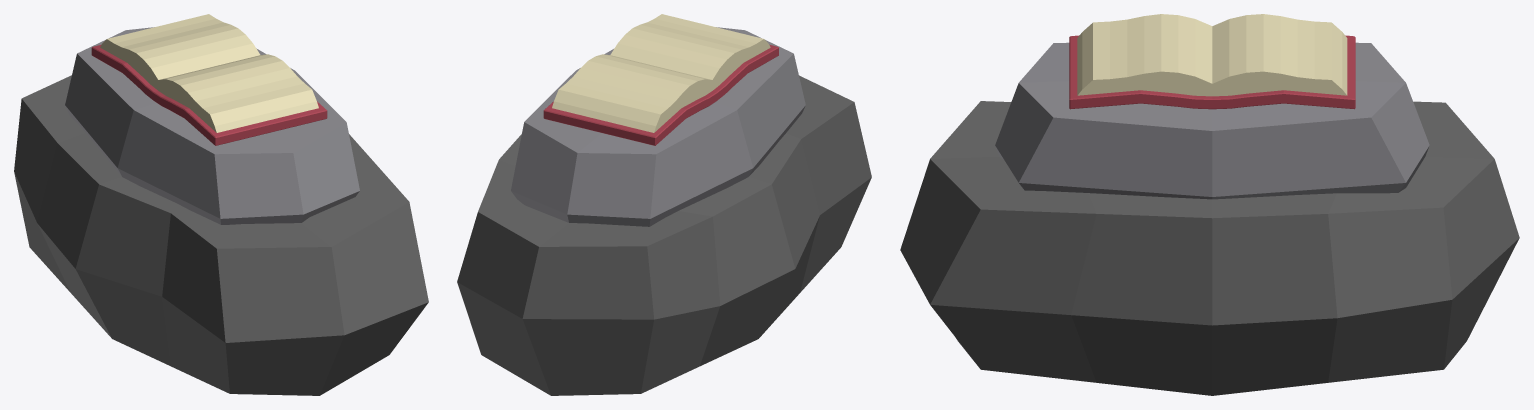
Rendered from book.fbx.
The picture shows the model from 3 angles, left to right: view 1: azimuth 30°, elevation 25°; view 2: azimuth 150°, elevation 25°; view 3: azimuth 270°, elevation 25°; orthographic projection. The views are drawn at different scales.
Visible parts, largest first — view 1: Cube.003, Cube.002, Cube, Cube.001; view 2: Cube.003, Cube.002, Cube, Cube.001; view 3: Cube.003, Cube.002, Cube, Cube.001.
Part boxes in pixels (bbox=[...]): Cube.003: bbox=[14, 75, 428, 395]; Cube.002: bbox=[65, 27, 359, 224]; Cube: bbox=[100, 14, 318, 132]; Cube.001: bbox=[91, 44, 327, 145]; Cube.003: bbox=[457, 75, 871, 395]; Cube.002: bbox=[511, 27, 805, 226]; Cube: bbox=[552, 14, 770, 132]; Cube.001: bbox=[543, 44, 778, 145]; Cube.003: bbox=[900, 101, 1519, 395]; Cube.002: bbox=[995, 42, 1429, 199]; Cube: bbox=[1077, 14, 1347, 96]; Cube.001: bbox=[1069, 35, 1355, 109].
Bounding box in the file's own units: 525 × 499 × 909.
